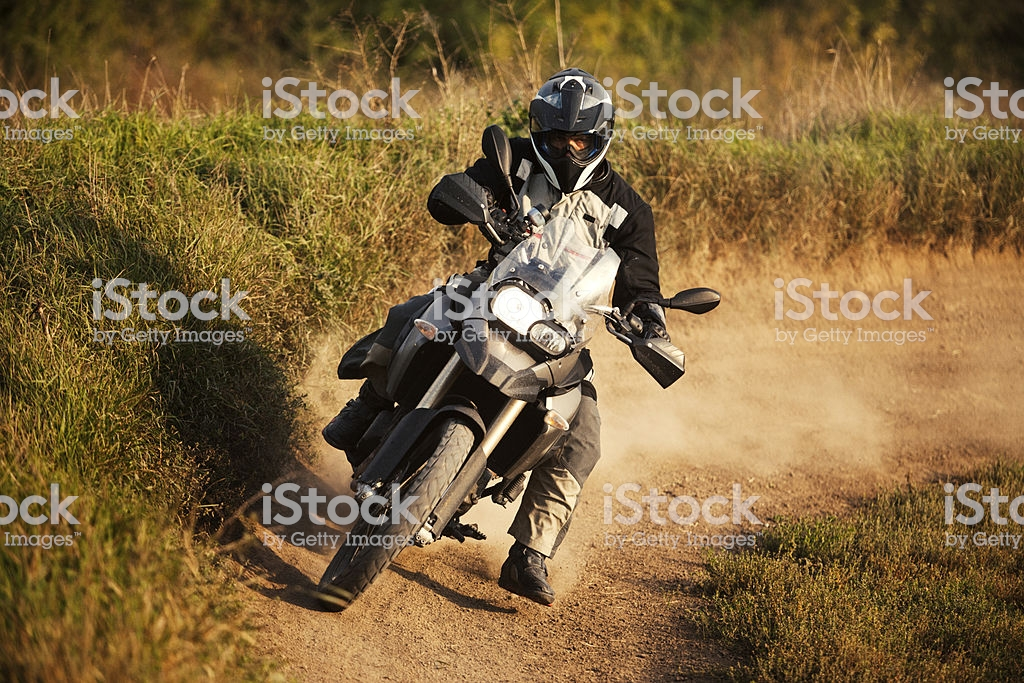helmet: (534, 57, 623, 184)
